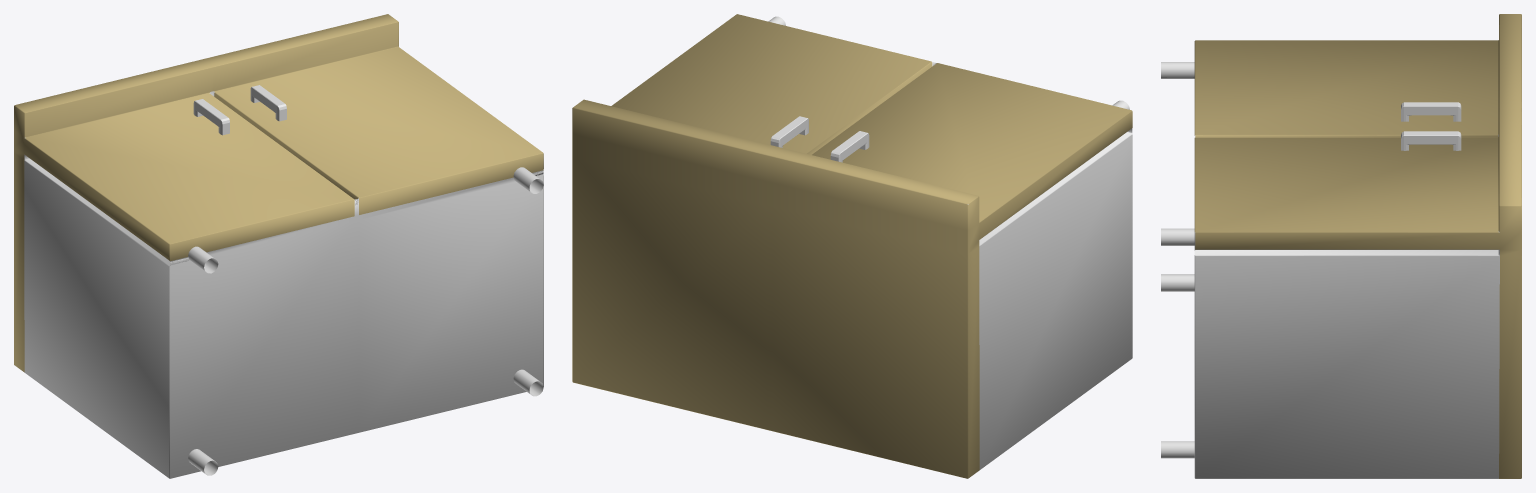
The picture shows the model from 3 angles, left to right: view 1: azimuth 30°, elevation 25°; view 2: azimuth 150°, elevation 25°; view 3: azimuth 270°, elevation 25°; orthographic projection. The views are drawn at different scales.
Visible parts, largest first — view 1: Circle.003; view 2: Circle.003; view 3: Circle.003.
Boxes of the visible parts, x1,y1,x2,y2 form: Circle.003: (14,14,543,478); Circle.003: (572,14,1132,478); Circle.003: (1161,14,1521,478).
Bounding box in the file's own units: 100 × 66.42 × 79.38.
